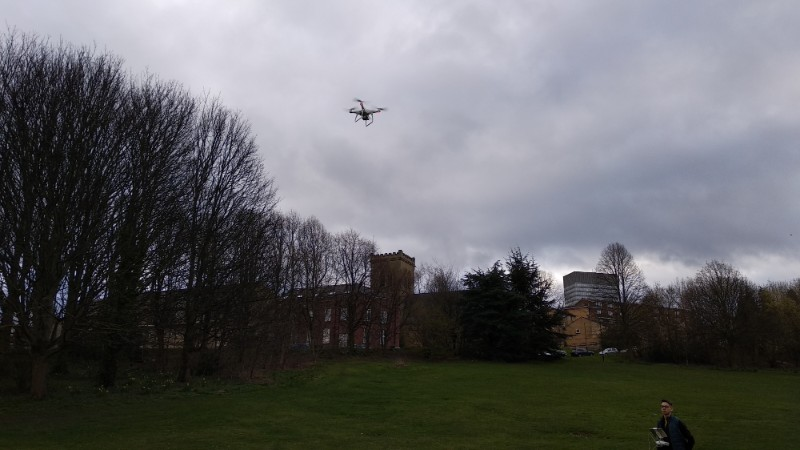drone: (345, 97, 387, 128)
